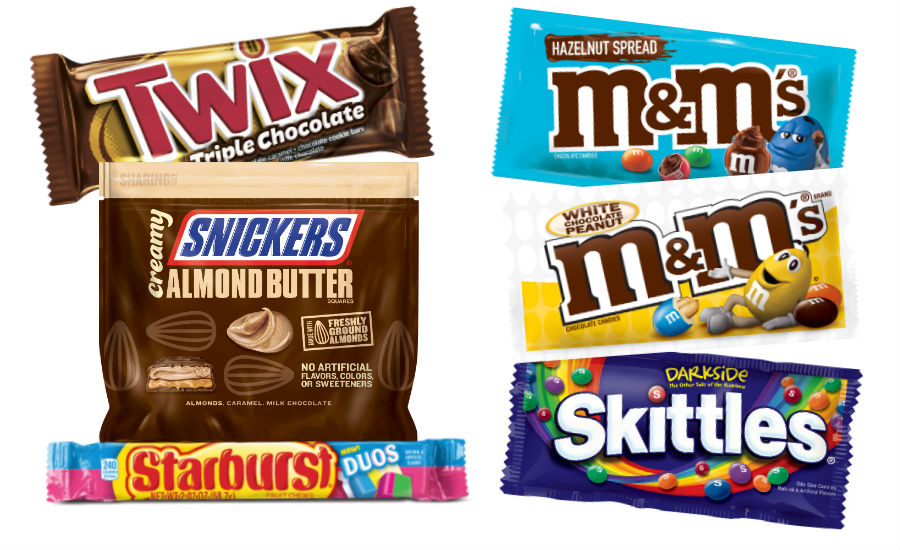snickers: (177, 218, 353, 256)
